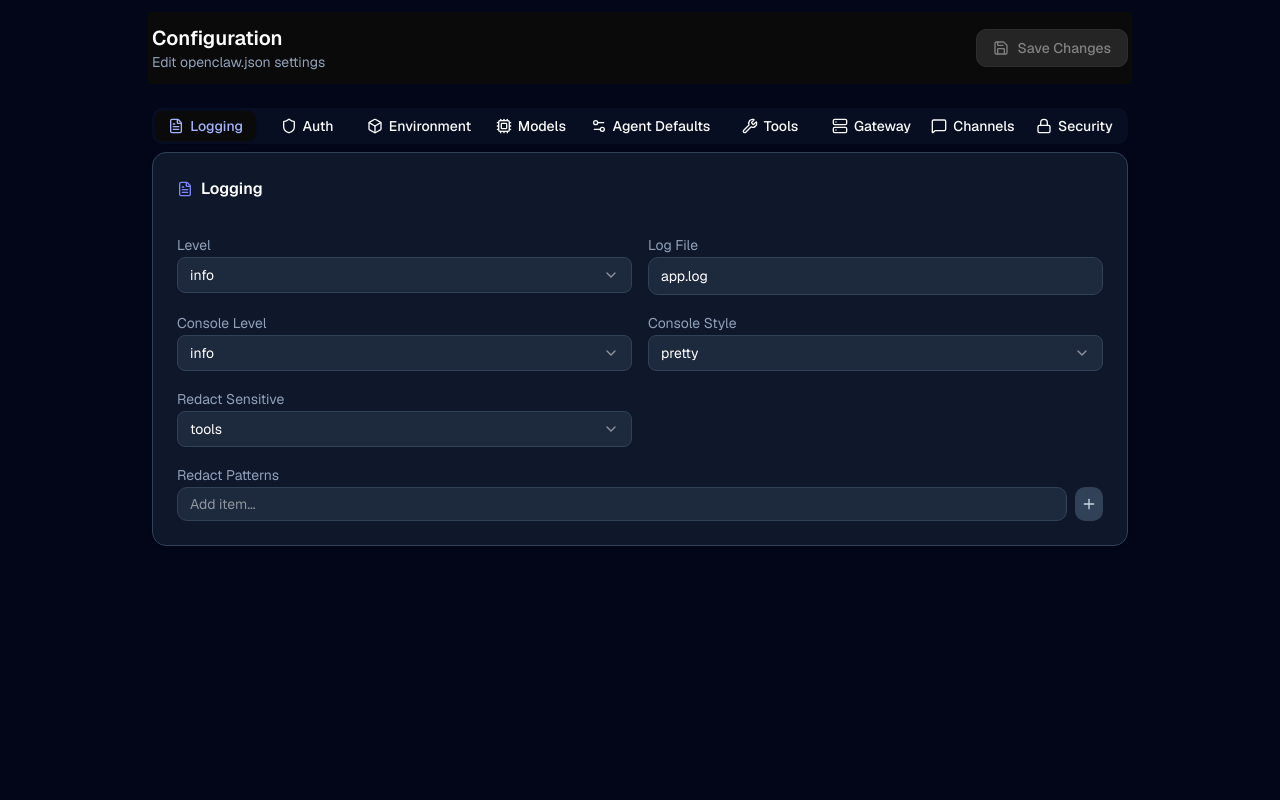
Test case: ConfigPageClient - interactions › handles save success and shows success toast
Check: the heading "Configuration" is shown, box [152,25,283,51]
Replace the text in the 1st field with "changed_xyz" at [876, 276], box [648,257,1103,295]
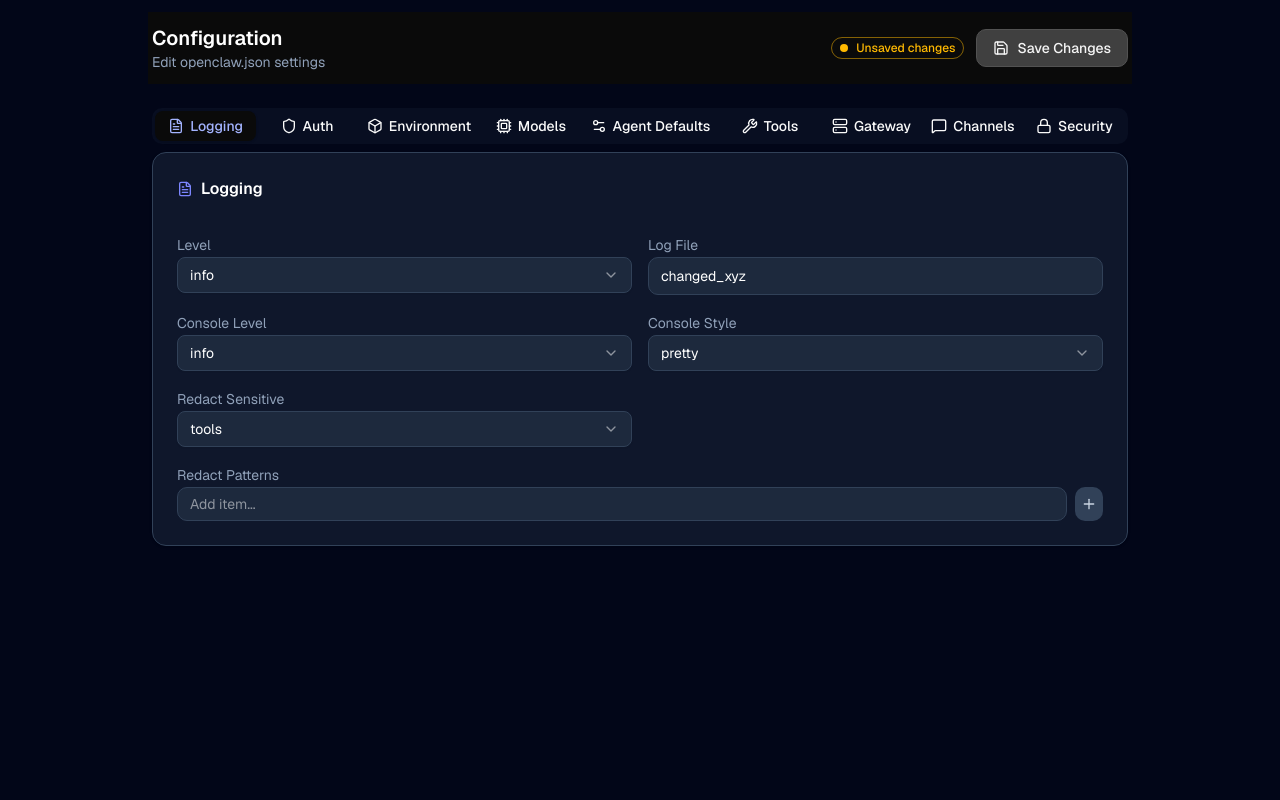
Click the button "Save Changes".
click(1052, 48)  # box [976,29,1128,67]
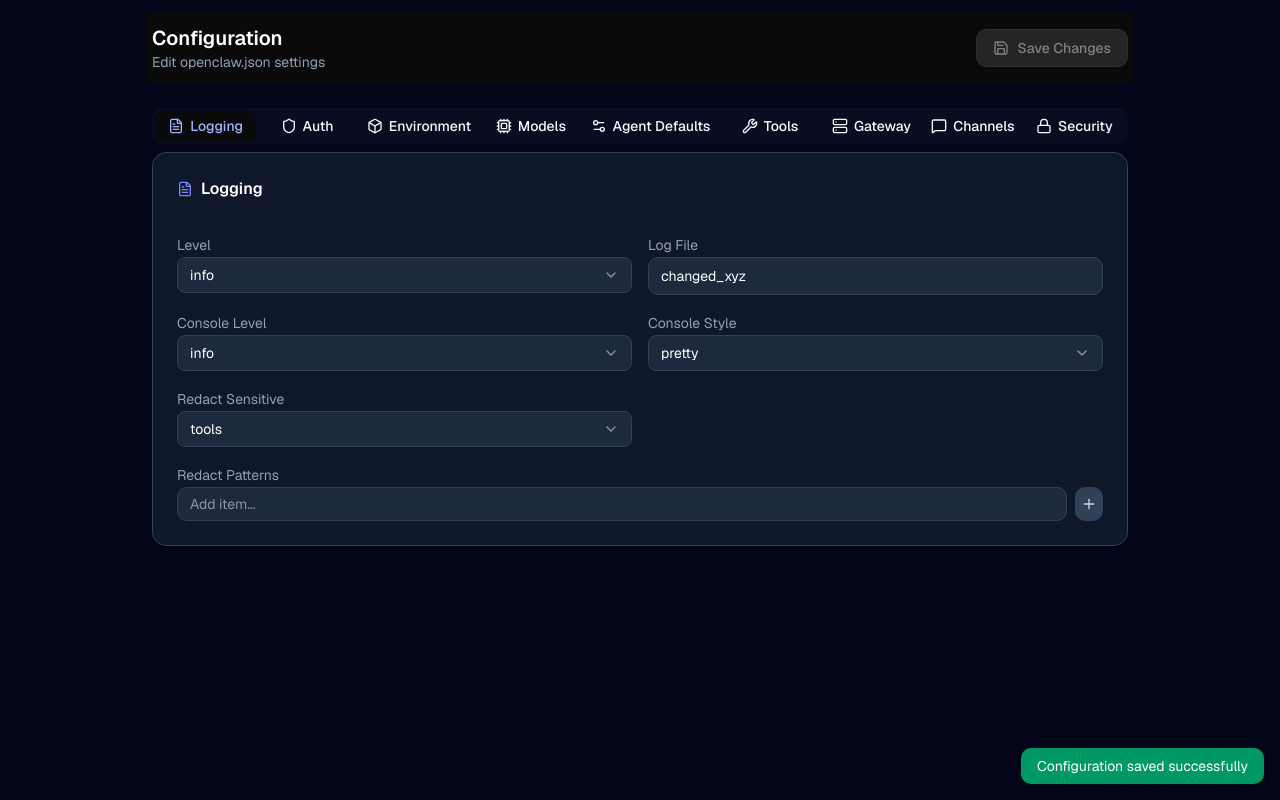
Check: the text "Configuration saved successfully" is shown, box [1021,748,1264,784]
